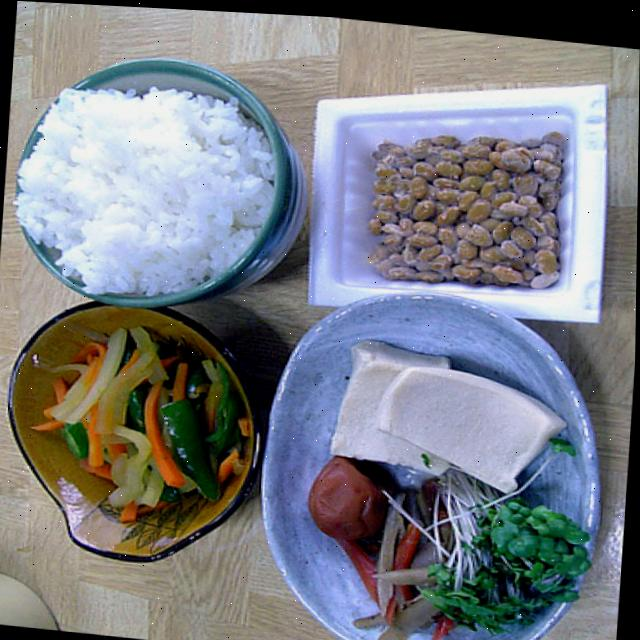米饭主食: (22, 56, 327, 310)
